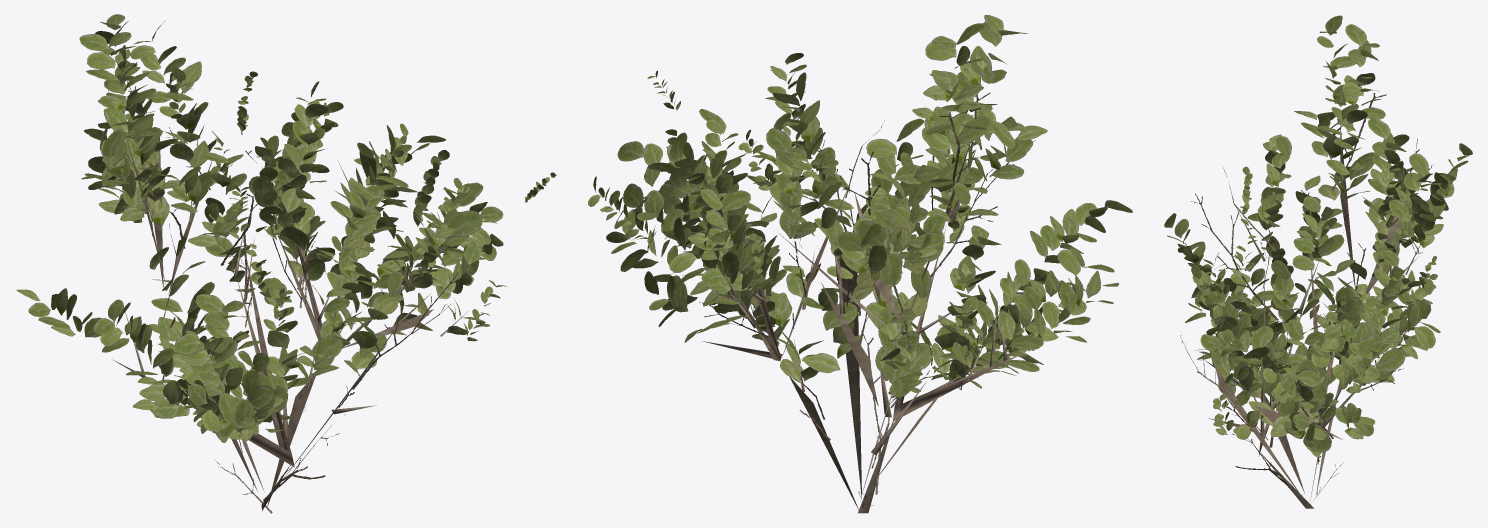
The model's file is searsia_lucida_e_LOD0.glb.
3 views of the same model, side by side, from view 1: azimuth 30°, elevation 25°; view 2: azimuth 150°, elevation 25°; view 3: azimuth 270°, elevation 25° (orthographic). The views are drawn at different scales.
Visible parts, largest first — view 1: searsia_lucida_e_LOD0; view 2: searsia_lucida_e_LOD0; view 3: searsia_lucida_e_LOD0.
Part boxes in pixels (x1,y1,x2,y2): searsia_lucida_e_LOD0: (16, 14, 556, 513); searsia_lucida_e_LOD0: (588, 15, 1132, 513); searsia_lucida_e_LOD0: (1164, 15, 1472, 508).
Size of the model in its own units: 1.04 by 1.02 by 0.6664.
3 materials, 3 textured.
